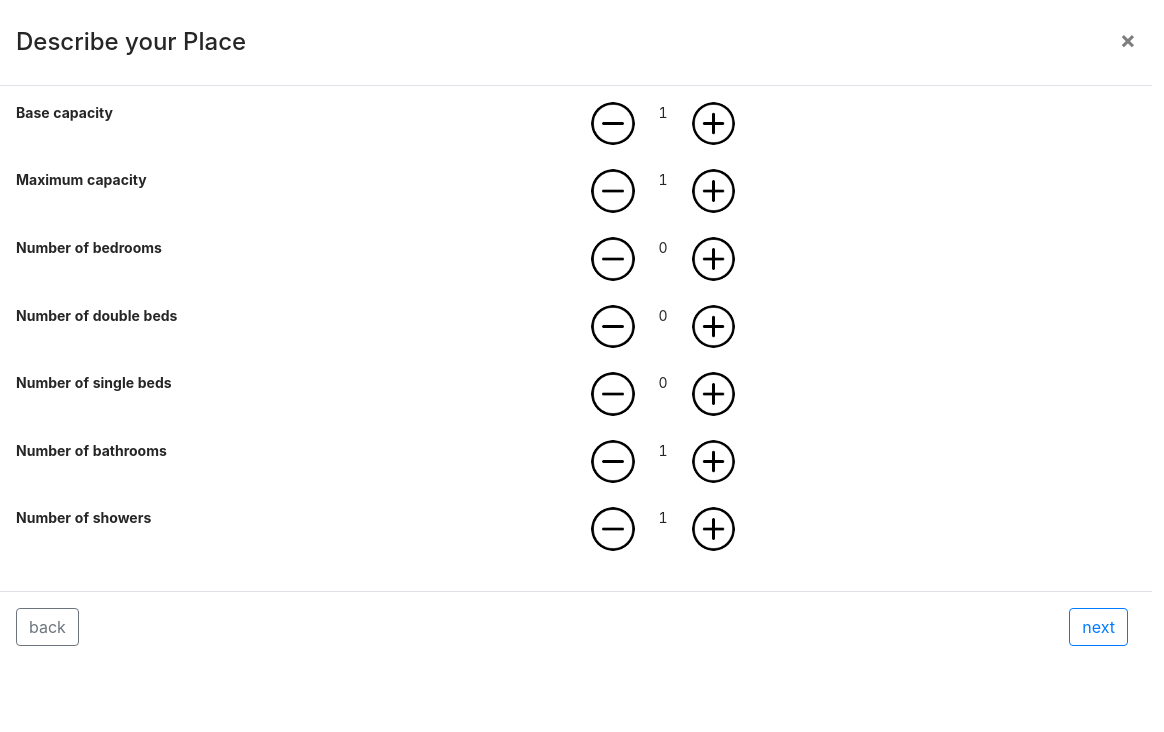
Normal Capacity counter increments
Click the picture with test id "nCapPlus": coordinates (714, 124) [692,102,735,145]
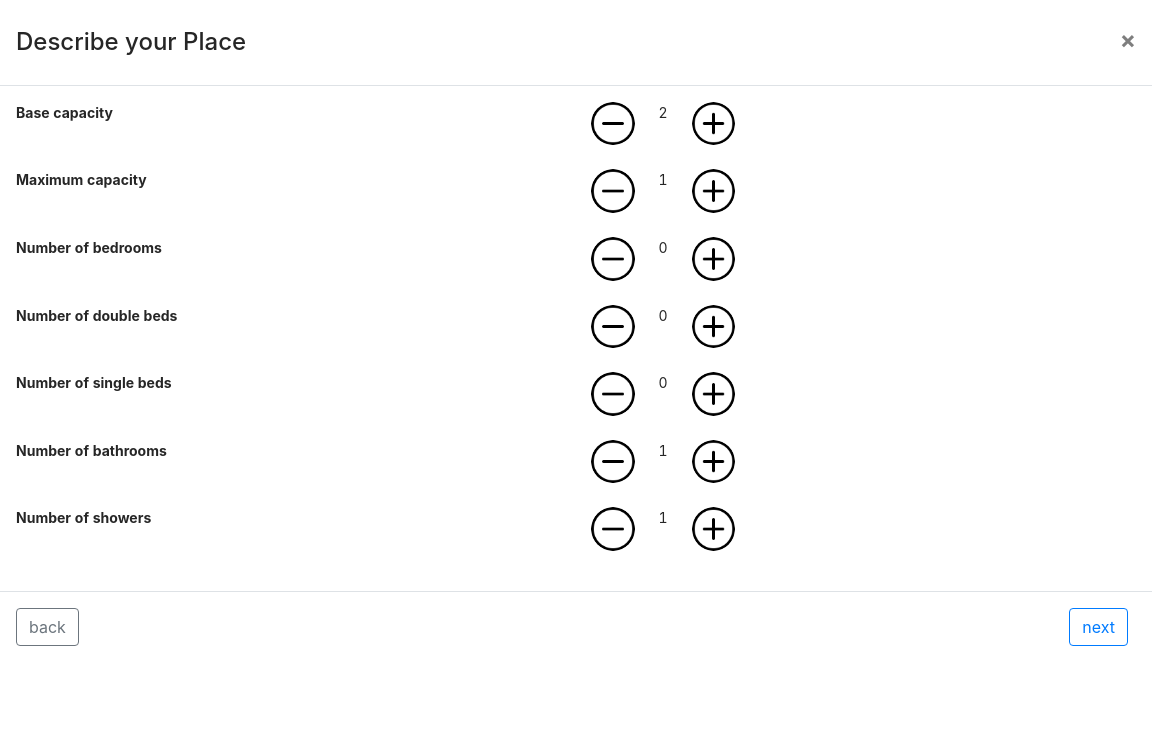
Now the text with test id "amentities-normalCapacity" reads "2", box [659,104,668,121]
